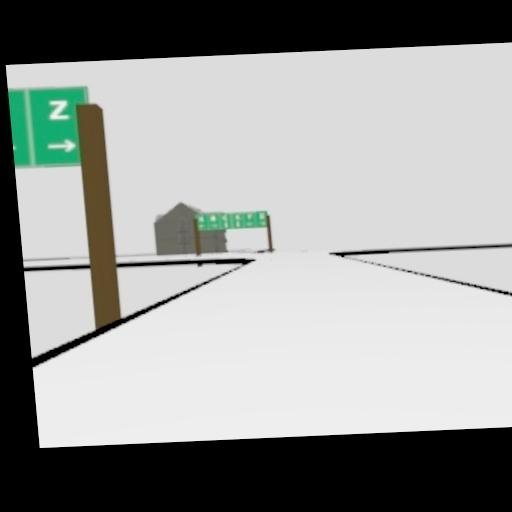Right: (47, 138, 77, 152)
Z: (47, 97, 69, 118)
